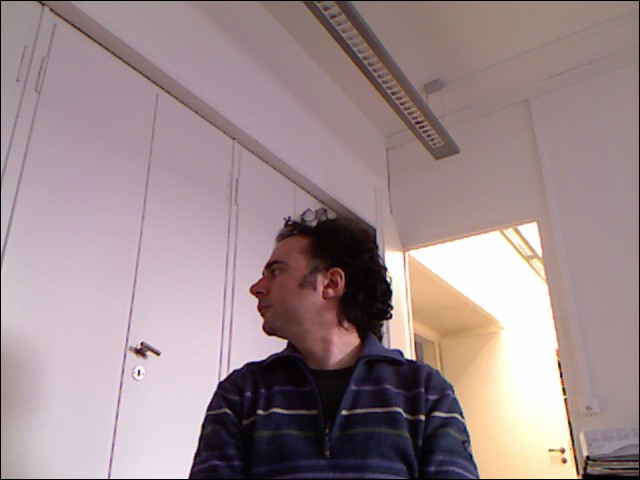deflection: (209, 222, 469, 450)
